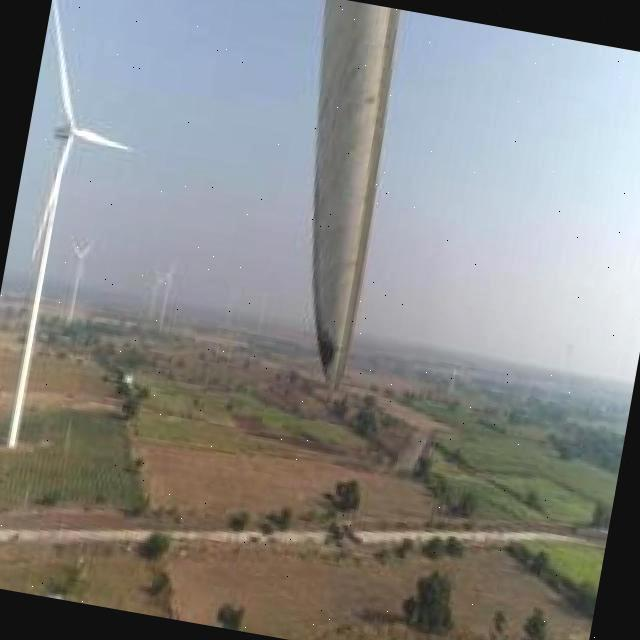Dirt: (313, 8, 380, 381)
Oil LEAKAGE: (313, 228, 339, 376)
